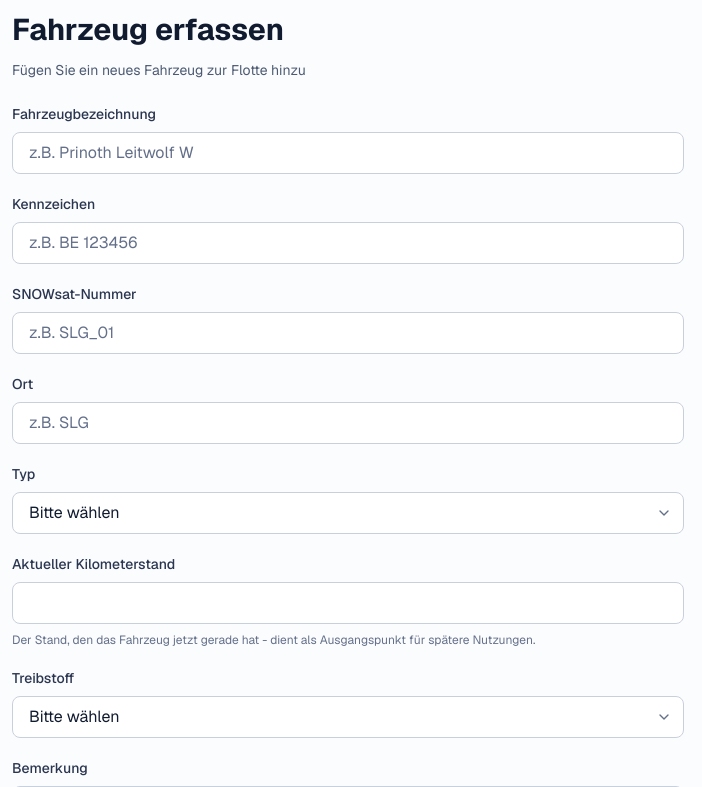
it: Fahrzeug erfassen › Betriebsstunden vs. Kilometerstand › switches to the hours label once "Pistenfahrzeug" is selected
The image size is (702, 787).
Select "Pistenfahrzeug" in the dropdown labelled "Typ" at (348, 513), box [12,492,684,534]
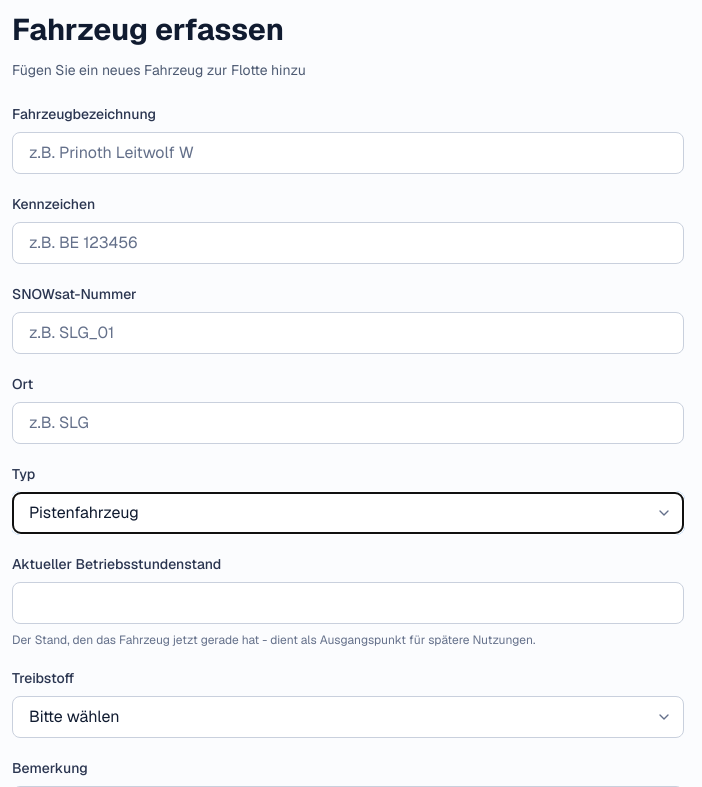
Result: the text "Aktueller Betriebsstundenstand" is shown at [12,555,221,573]
Result: the text "Aktueller Kilometerstand" is gone
